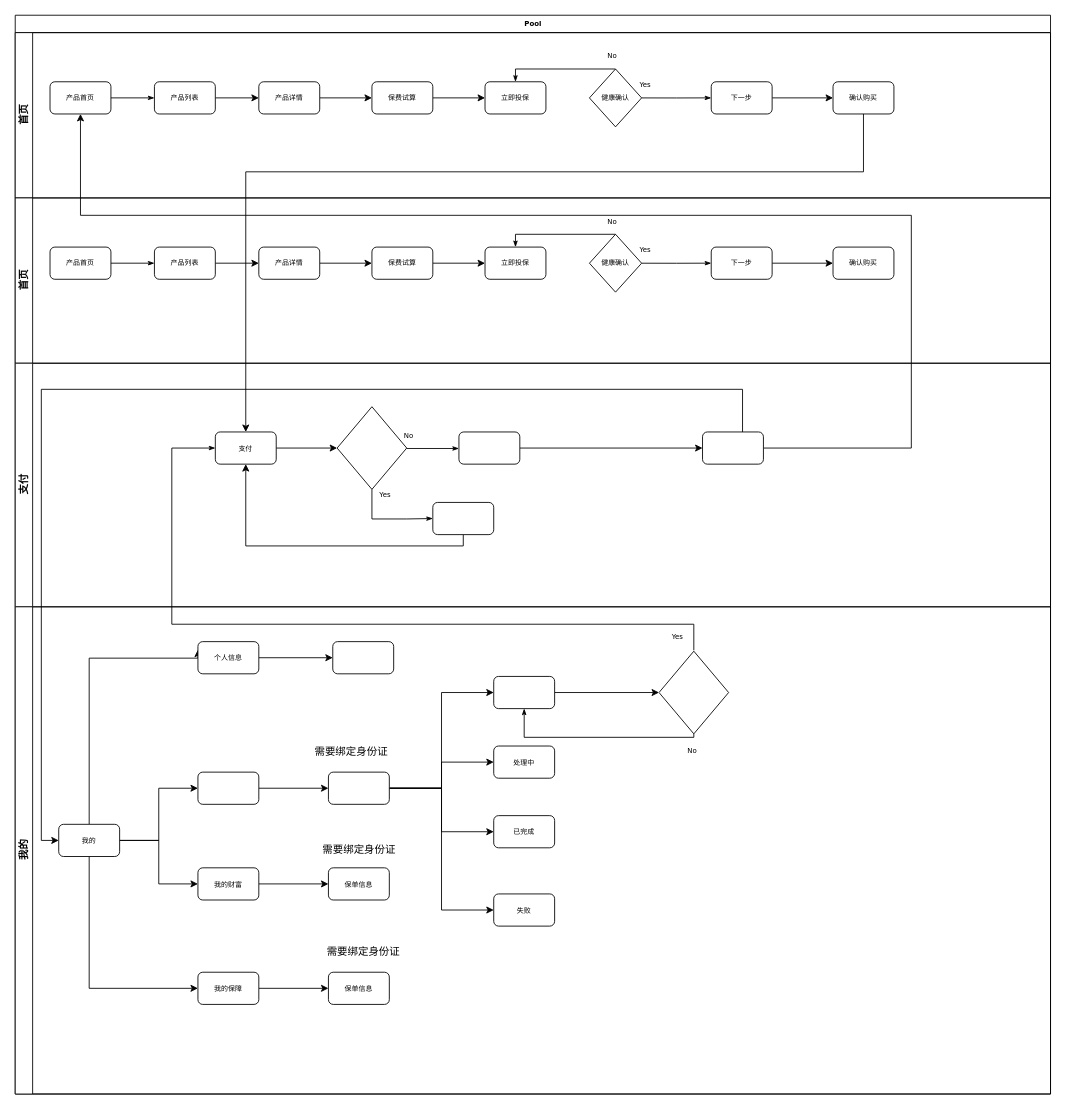
Image size: 1066x1109. Some labels were removed from this diagram. The shapes that lost their labels are listed below. From the top down, each one's centre as x and y in pixels, then its label:
At pixel 371 447: "是否需要添加银行卡".
At pixel 489 447: "确认支付".
At pixel 732 447: "支付成功".
At pixel 463 518: "添加银行卡".
At pixel 363 657: "绑定身份证".
At pixel 524 692: "待支付".
At pixel 693 692: "是否需要支付".
At pixel 228 787: "我的订单".
At pixel 358 787: "订单交易信息".
